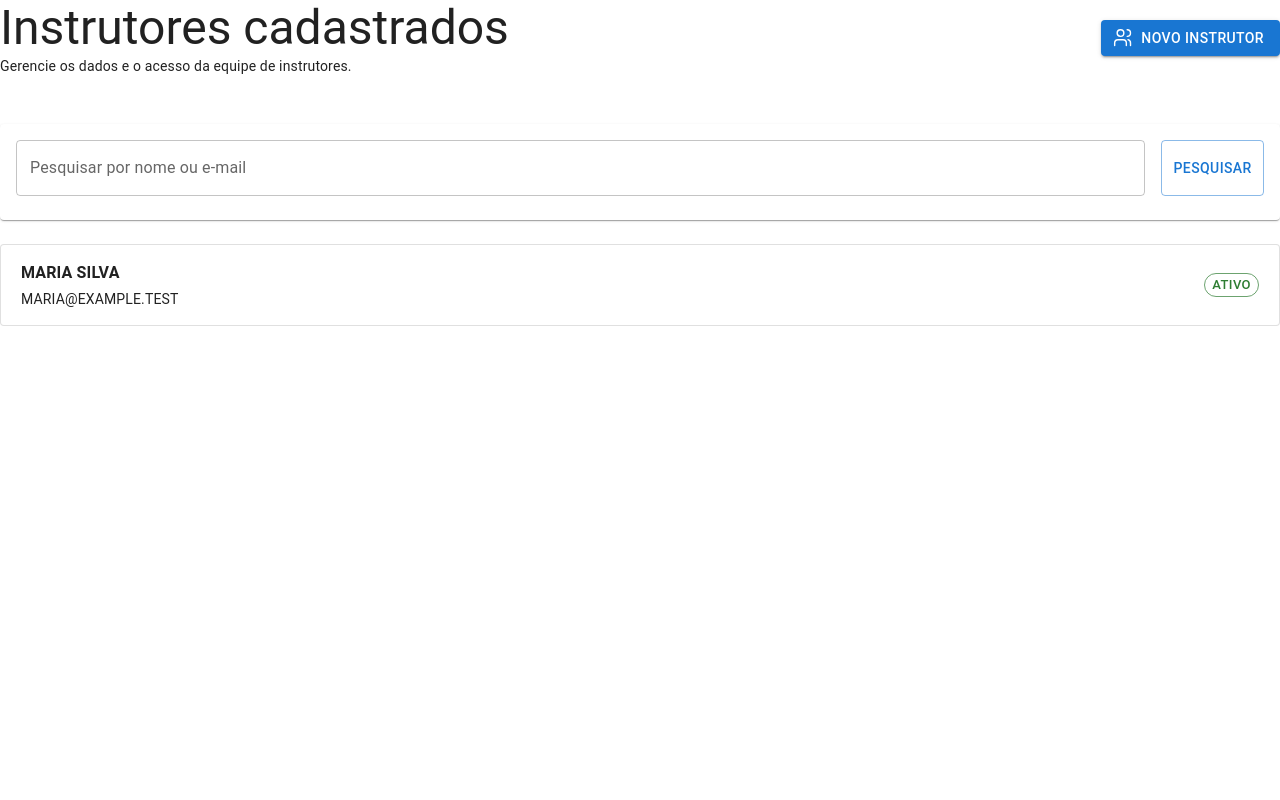
Test: shows immediate processing and prevents duplicate provisioning while the adapter is pending
Click the button "Maria Silva maria@example.test Ativo" at (70, 273), box [1,245,1279,325]
(page scrolled)
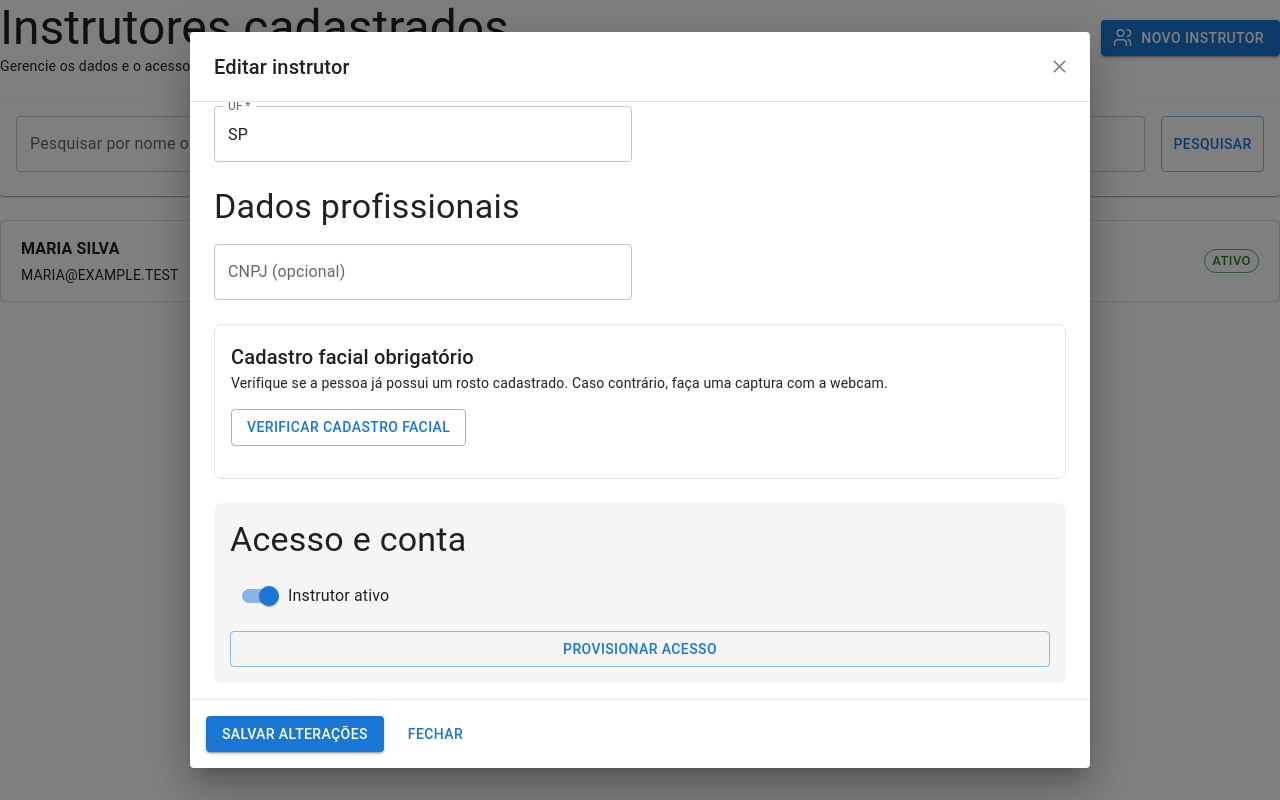
Click the button "Provisionar acesso" at (640, 649), box [230,631,1050,668]
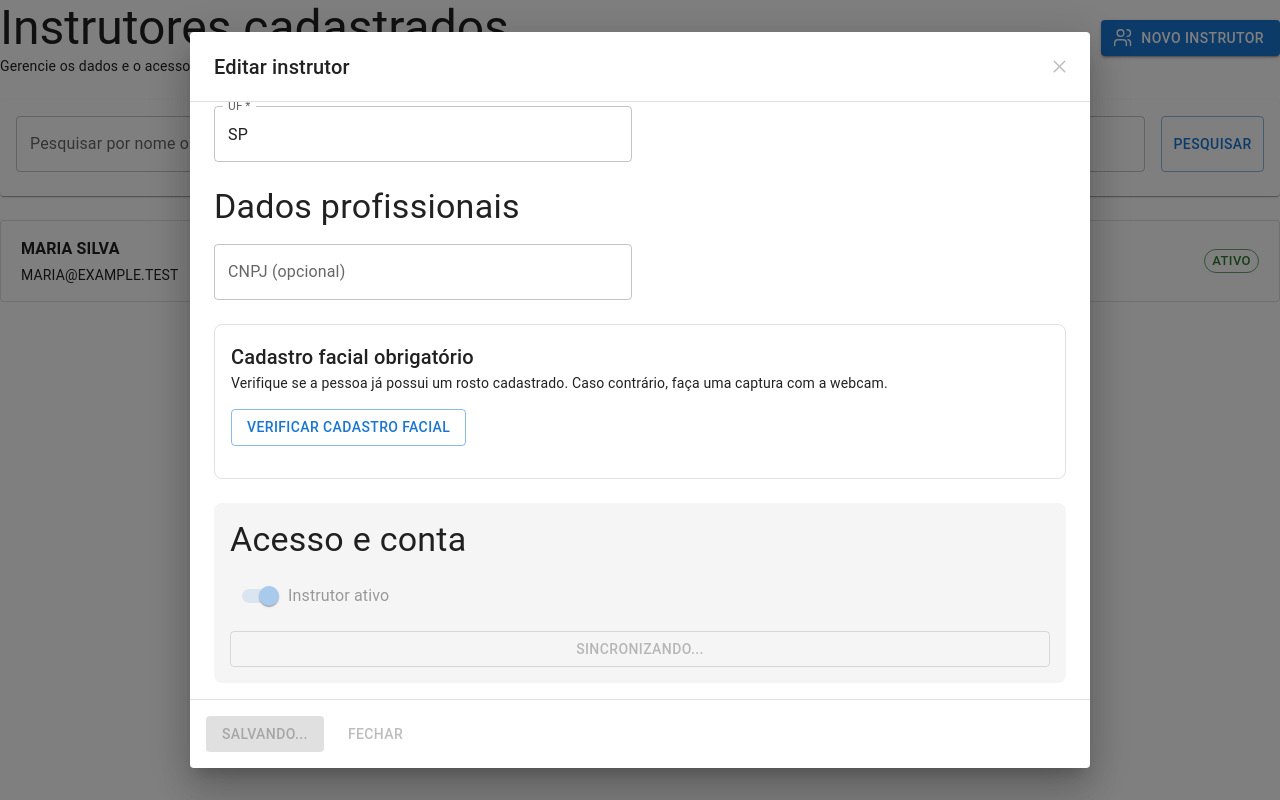
Expected: the button named "Provisionar acesso" is disabled
Expected: the button named "Provisionar acesso" reads "Sincronizando..."
Click the button named "Provisionar acesso" at (640, 649), box [230,631,1050,668]
(page scrolled)
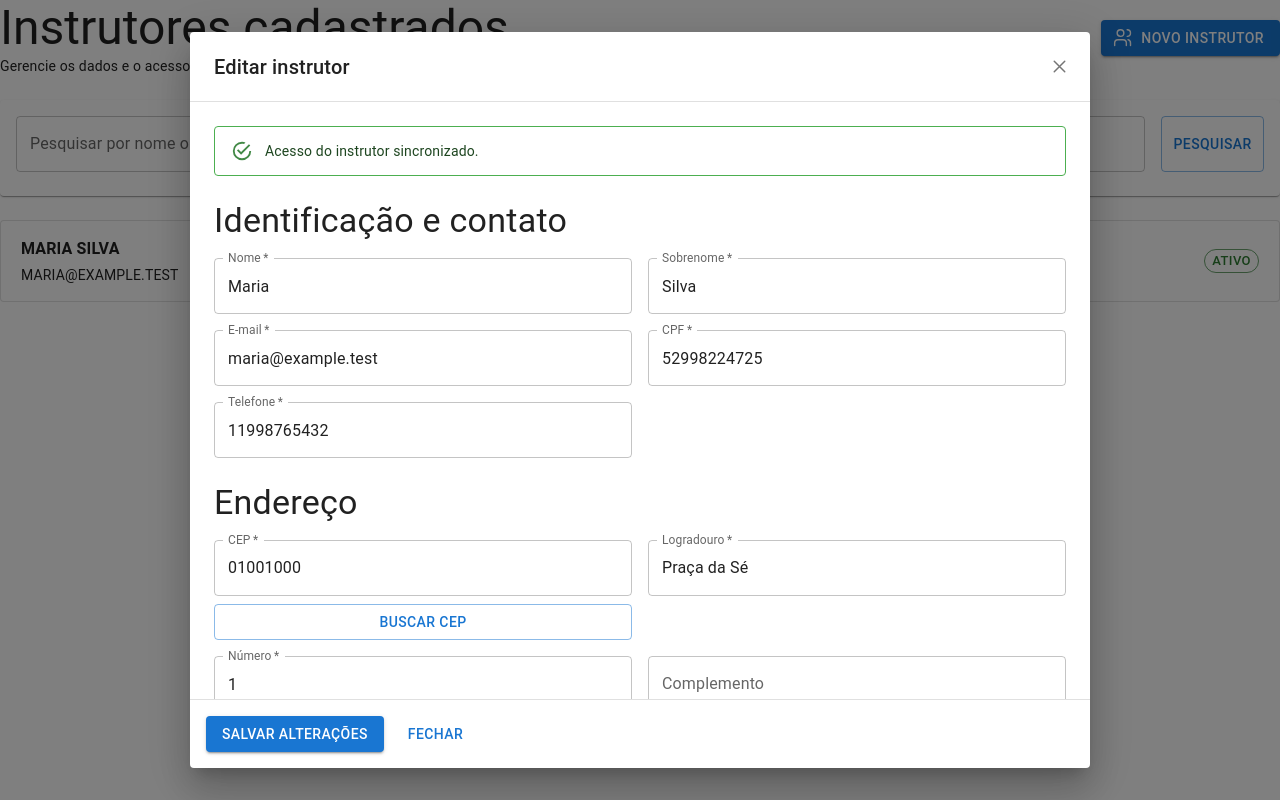
Expected: the text "Acesso do instrutor sincronizado." is shown, [265,143,479,159]
